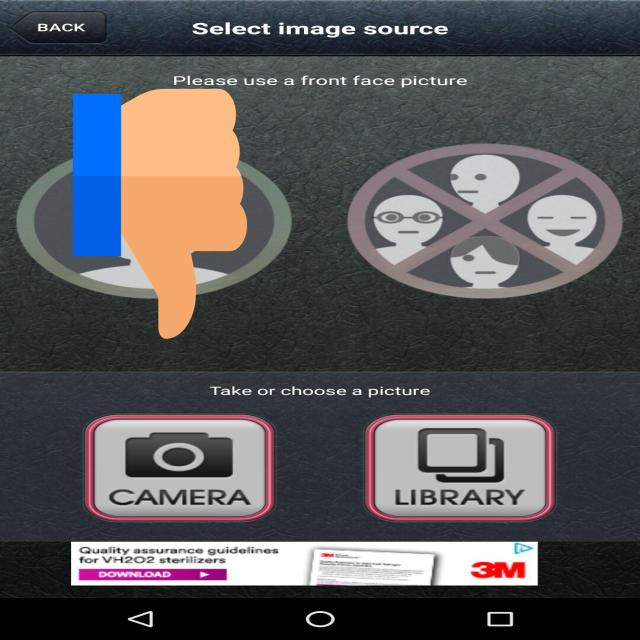obstruction: (73, 83, 247, 345)
